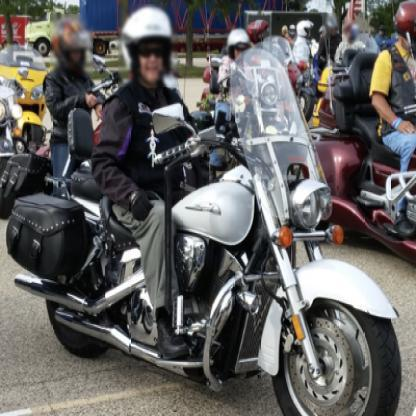Helmet: (115, 3, 180, 86), (51, 16, 91, 76), (394, 1, 416, 49), (226, 24, 250, 61), (249, 18, 270, 44), (325, 11, 342, 35), (298, 19, 313, 42), (347, 22, 361, 42)
